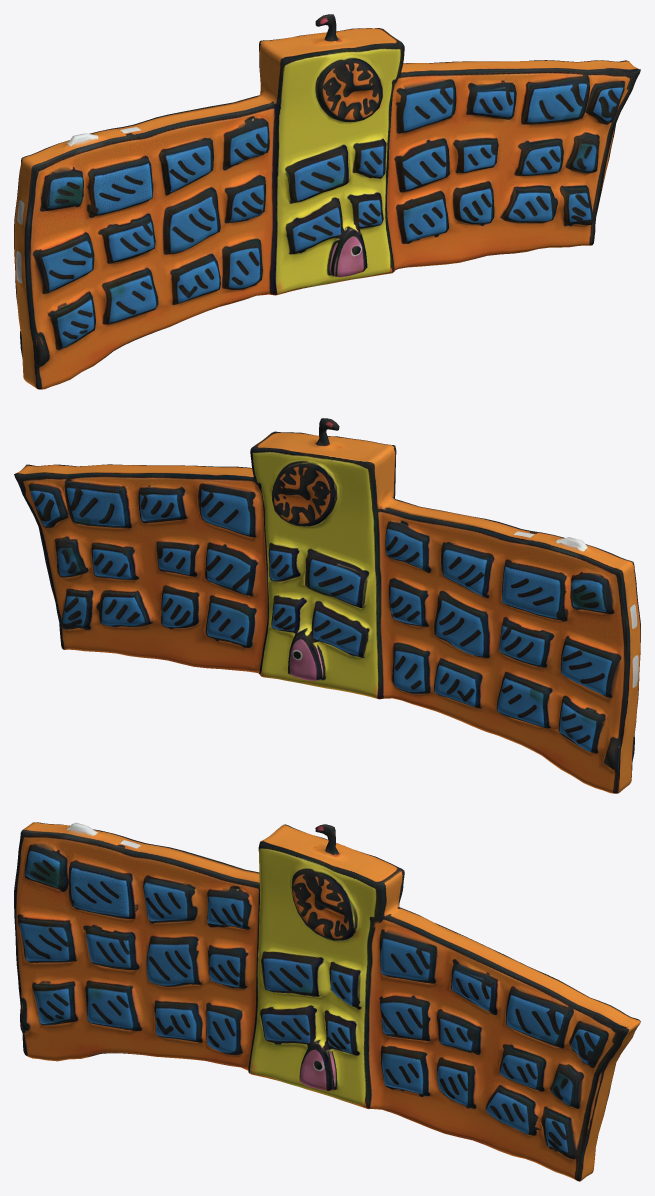
Rendered from school.glb.
3 renders of one model, top to bottom at view 1: azimuth 30°, elevation 25°; view 2: azimuth 150°, elevation 25°; view 3: azimuth 330°, elevation 25°, orthographic.
Visible parts, largest first — view 1: tripo_node_2af0b8c5-2b40-456a-92ce-a60eae47b592; view 2: tripo_node_2af0b8c5-2b40-456a-92ce-a60eae47b592; view 3: tripo_node_2af0b8c5-2b40-456a-92ce-a60eae47b592.
Part boxes in pixels (bbox=[...]): tripo_node_2af0b8c5-2b40-456a-92ce-a60eae47b592: bbox=[14, 14, 640, 389]; tripo_node_2af0b8c5-2b40-456a-92ce-a60eae47b592: bbox=[14, 418, 640, 793]; tripo_node_2af0b8c5-2b40-456a-92ce-a60eae47b592: bbox=[14, 822, 640, 1181].
Size of the model in its own units: 0.9794 by 0.454 by 0.1099.
Materials: 1 (1 with a texture image).
